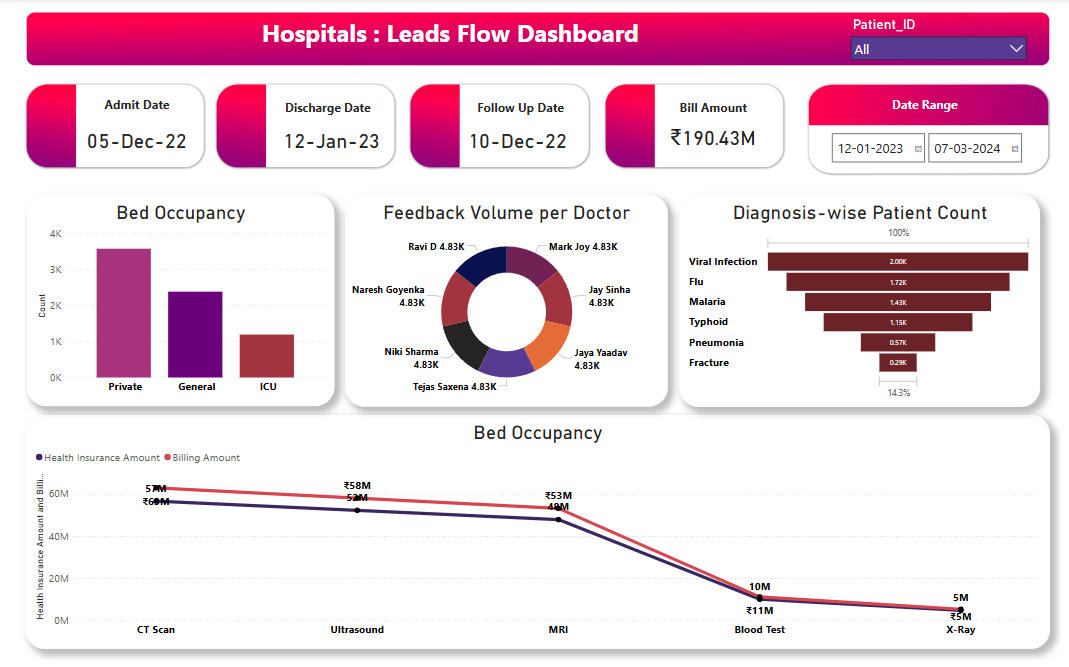

This screenshot's page, from the dashboard's own definition file:
{"tool":"powerbi","page":{"name":"Page 2","canvas":[1680,1050],"ordinal":0},"visuals":[{"type":"textbox","box":[177.1,23.3,1043.8,76.9],"z":0},{"type":"image","box":[2636.7,100,623.3,150],"z":1000},{"type":"slicer","fields":{"Values":["Sheet1.Patient_ID"]},"box":[2400,373.3,793.3,420],"z":2000},{"type":"card","fields":{"Values":["Sheet1.Admit_Date"]},"box":[437.6,198.8,162.9,42.8],"z":3000},{"type":"card","fields":{"Values":["Sheet1.Discharge_Date"]},"box":[129.8,198.8,172.6,42.8],"z":4000},{"type":"card","fields":{"Values":["Sheet1.Followup Date"]},"box":[724.3,198.6,167.1,42.9],"z":5000},{"type":"textbox","box":[152.9,145.7,127.1,57.1],"z":6000},{"type":"textbox","box":[437.1,151.4,151.4,37.1],"z":7000},{"type":"textbox","box":[732.9,151.4,158.6,37.1],"z":8000},{"type":"textbox","box":[1035.7,151.4,151.4,37.1],"z":9000},{"type":"card","fields":{"Values":["Sheet1.Billing Amount"]},"box":[1031.4,194.3,158.6,42.9],"z":10000},{"type":"columnChart","title":"Bed Occupancy","fields":{"Category":["Sheet1.Bed_Occupancy"],"Y":["Sheet1.Bed_Occupancy"]},"box":[47.1,305.7,477.1,328.6],"z":15000},{"type":"donutChart","title":"Feedback Volume per Doctor","fields":{"Category":["Sheet1.Doctor"],"Y":["Sheet1.Feedback"]},"box":[540.2,305.2,501,329.5],"z":16000},{"type":"funnel","title":"Diagnosis-wise Patient Count","fields":{"Category":["Sheet1.Diagnosis"],"Y":["Sheet1.Diagnosis"]},"box":[1060,305.7,560,330],"z":17000},{"type":"lineChart","title":"Bed Occupancy","fields":{"Y":["Sheet1.Health Insurance Amount","Sheet1.Billing Amount"],"Category":["Sheet1.Test"]},"box":[44.3,647.7,1591.3,363.5],"z":19000},{"type":"slicer","fields":{"Values":["Sheet1.Admit_Date"]},"box":[1284.3,201.2,360.6,68.9],"z":20000},{"type":"slicer","fields":{"Values":["Sheet1.Patient_ID"]},"box":[1317.1,24.3,292.9,82.9],"z":21000},{"type":"textbox","box":[1365.7,145.7,151.4,37.1],"z":22000}]}

Visuals, with their boxes in screenshot pixels (x1, y1, x2, y2), scaled from the page's 1680x1050 canvas onto the 1069x667 screenshot:
textbox: detection(113, 15, 777, 64)
card - Sheet1.Admit_Date: detection(278, 126, 382, 153)
card - Sheet1.Discharge_Date: detection(83, 126, 192, 153)
card - Sheet1.Followup Date: detection(461, 126, 567, 153)
textbox: detection(97, 93, 178, 129)
textbox: detection(278, 96, 374, 120)
textbox: detection(466, 96, 567, 120)
textbox: detection(659, 96, 755, 120)
card - Sheet1.Billing Amount: detection(656, 123, 757, 151)
"Bed Occupancy" columnChart: detection(30, 194, 334, 403)
"Feedback Volume per Doctor" donutChart: detection(344, 194, 663, 403)
"Diagnosis-wise Patient Count" funnel: detection(674, 194, 1031, 404)
"Bed Occupancy" lineChart: detection(28, 411, 1041, 642)
slicer - Sheet1.Admit_Date: detection(817, 128, 1047, 172)
slicer - Sheet1.Patient_ID: detection(838, 15, 1024, 68)
textbox: detection(869, 93, 965, 116)
